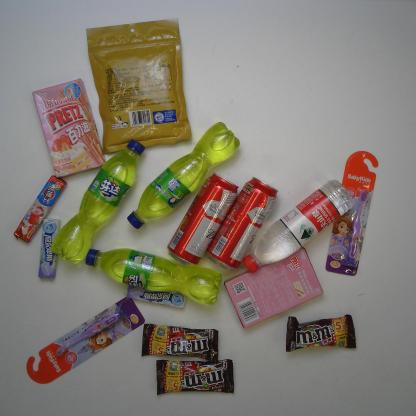Alcohol: (161, 169, 239, 273), (204, 177, 281, 280)
Candy: (11, 174, 70, 246), (124, 278, 189, 311), (34, 214, 63, 284)
Chocolate: (153, 354, 237, 398), (140, 321, 219, 363), (284, 309, 355, 354)
Dessert: (224, 243, 326, 330), (30, 75, 110, 182)
Dried Fruit: (83, 14, 194, 160)
Drink: (123, 119, 243, 235), (45, 134, 147, 268), (240, 174, 357, 275), (80, 244, 225, 307)
Personal Hygiene: (24, 292, 148, 386), (323, 150, 381, 279)
